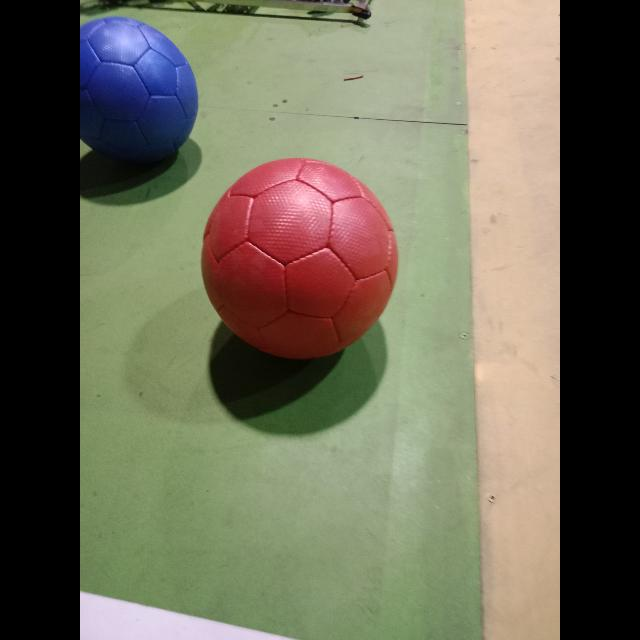B: (80, 16, 198, 166)
R: (200, 159, 398, 361)
